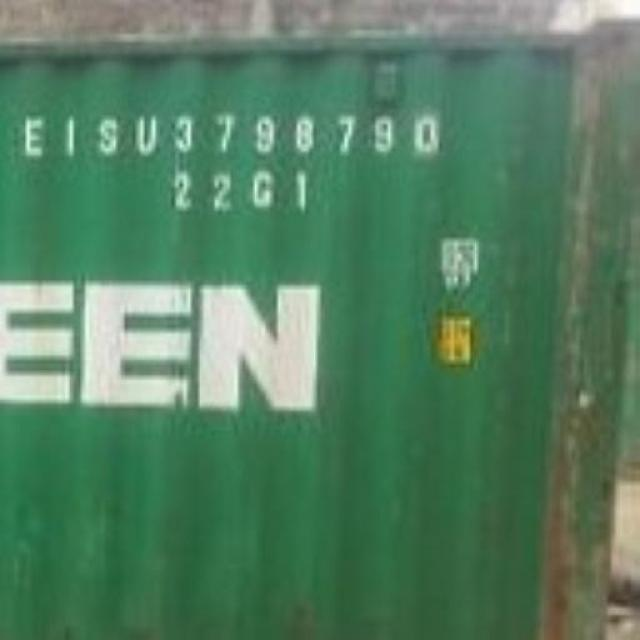ISO: (164, 160, 318, 222)
container_number: (12, 106, 442, 171)
